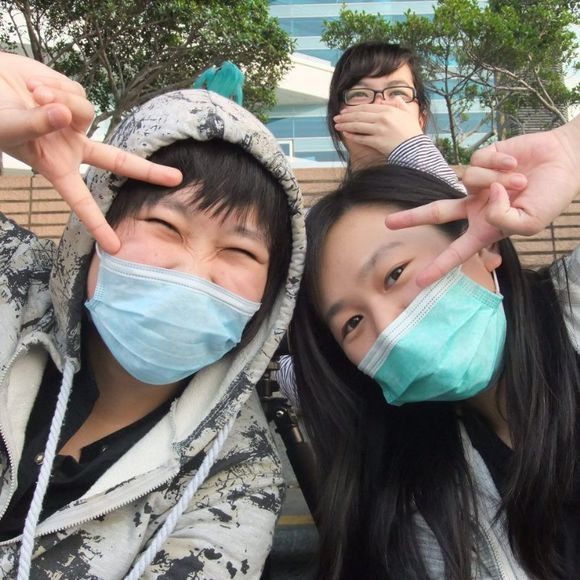face: (342, 64, 417, 149)
face_mask: (96, 168, 271, 373), (328, 213, 485, 403)
